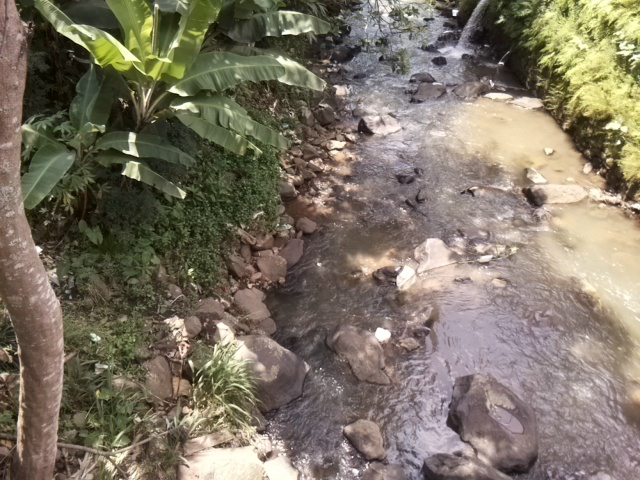Sampah_Plastik: (397, 265, 418, 291)
Sampah_Styrofoam: (376, 324, 390, 344)
